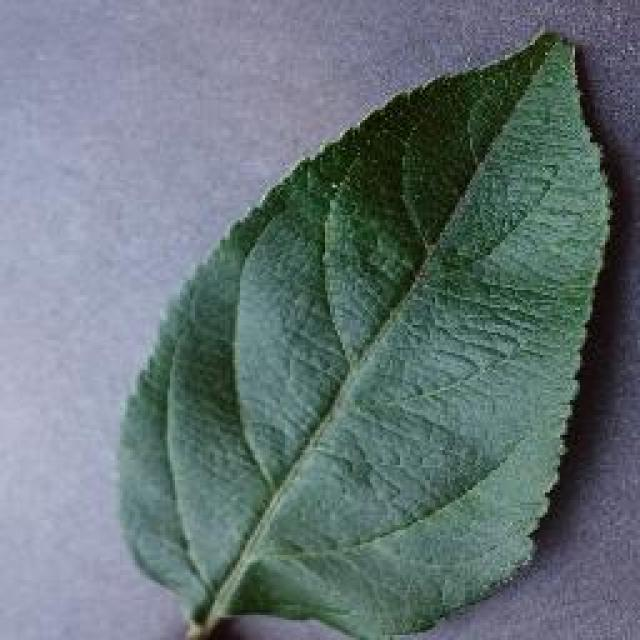apple healthy: (112, 28, 618, 638)
